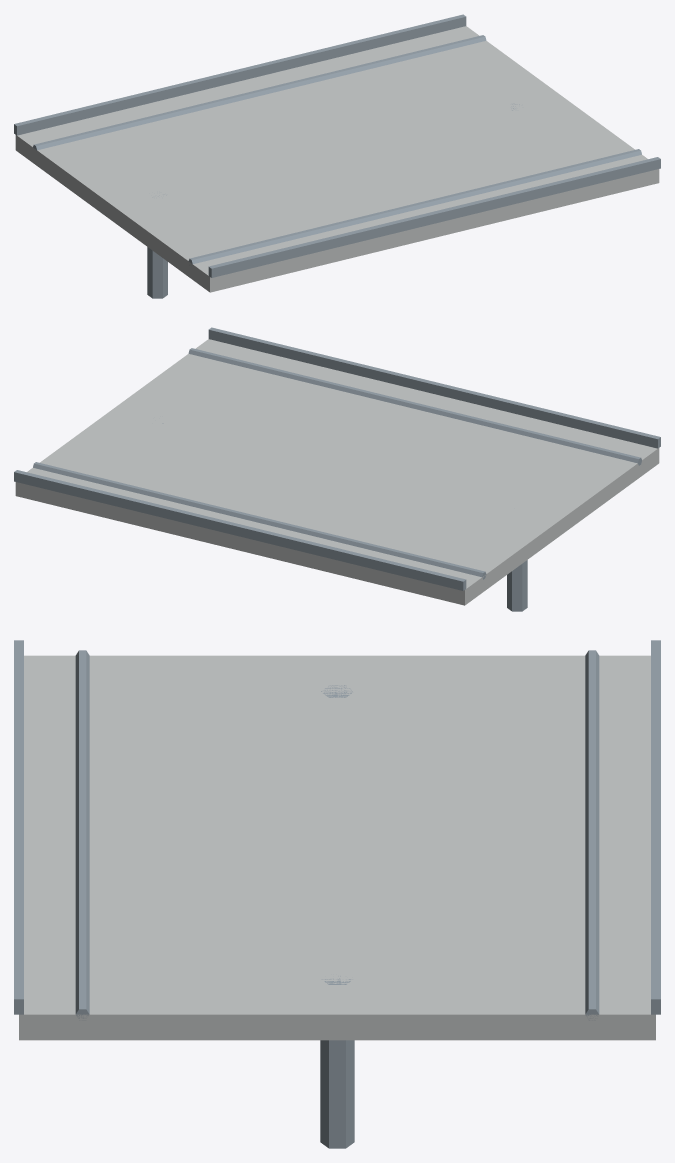
3 views of the same model, one above another, from view 1: azimuth 30°, elevation 25°; view 2: azimuth 150°, elevation 25°; view 3: azimuth 270°, elevation 25° (orthographic). The views are drawn at different scales.
Parts seen in each view (by area): view 1: worldgen; view 2: worldgen; view 3: worldgen.
Boxes of the visible parts, x1,y1,x2,y2 form: worldgen: (14,14,660,298); worldgen: (14,327,660,611); worldgen: (14,640,660,1148).
Size of the model in its own units: 60 by 13.95 by 45.7.
